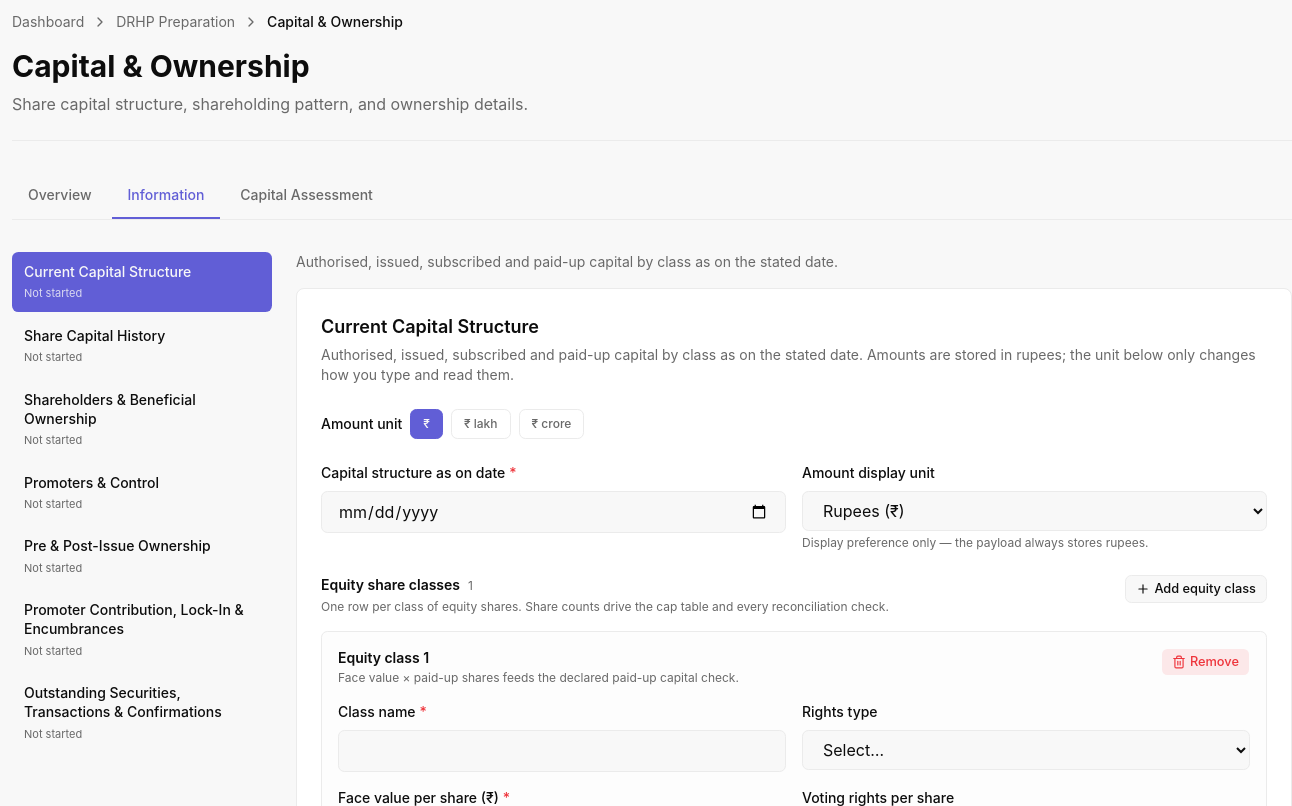
Scenario: Capital & Ownership workstream UI (C2 persistence) › loads workspace and renders three tabs and seven information sections
Expected: the navigation bar named "information sections" is shown, [12,252,272,752]
Expected: the tab "Information" is shown, [112,173,220,219]
Click the tab "Overview".
click(60, 196)  # box [12,173,108,219]
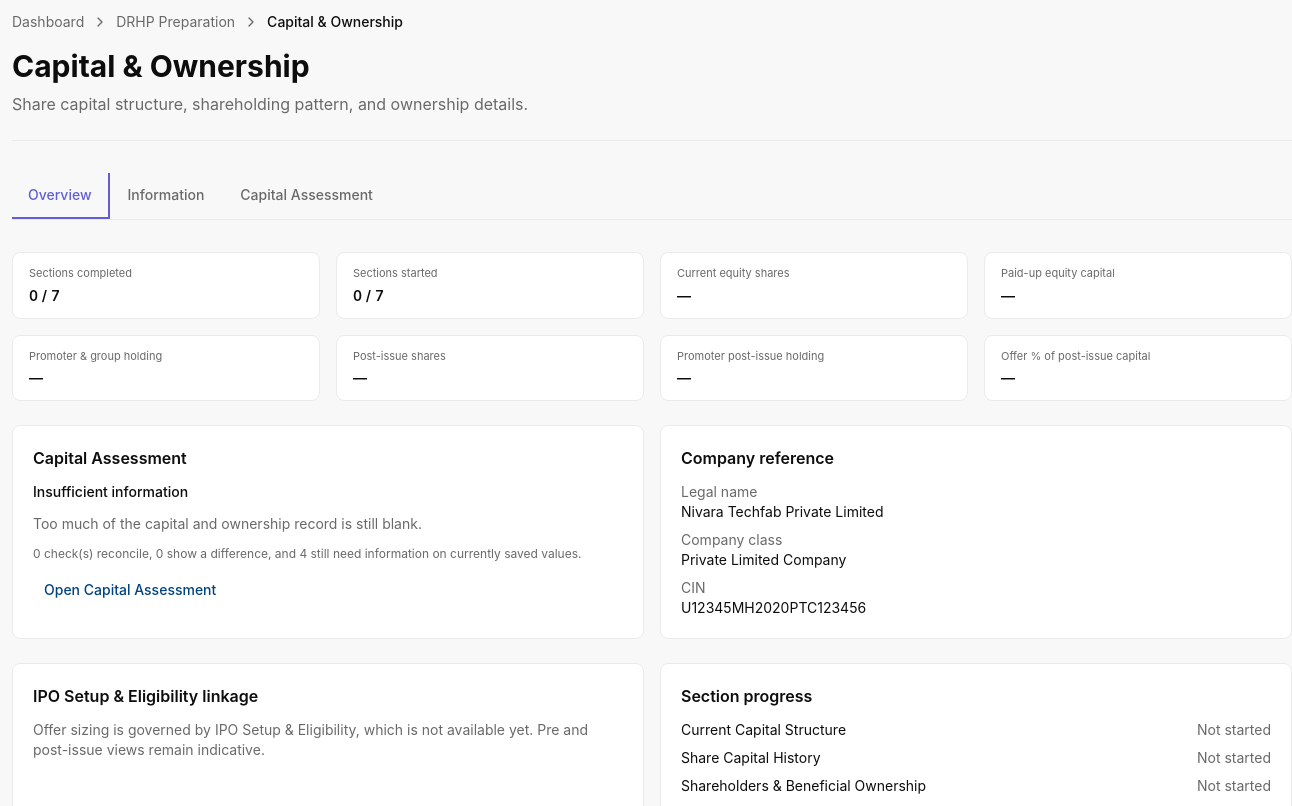
Expected: the text "Sections completed" is shown, [29,266,132,280]
Expected: the text "Insufficient information" is shown, [33,483,188,500]
Click the tab "Capital Assessment".
click(307, 196)  # box [224,173,389,219]
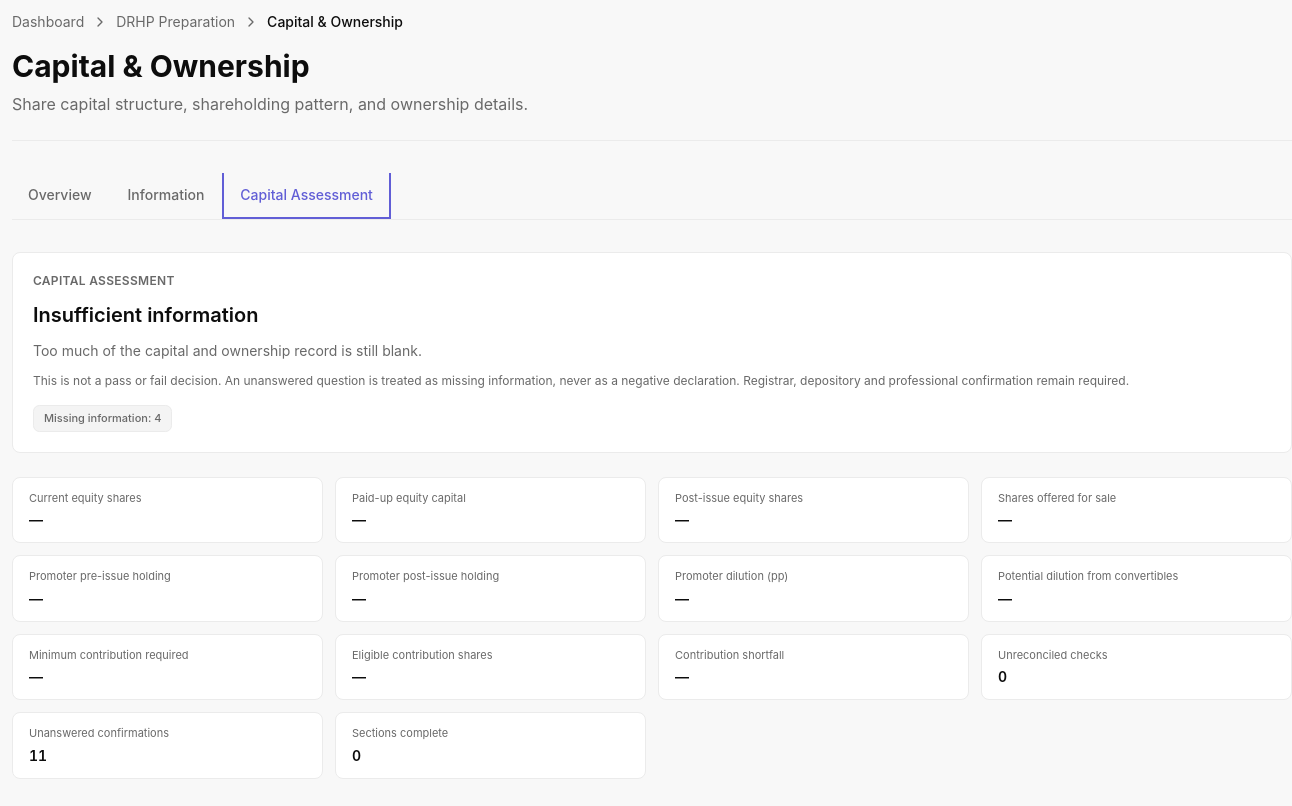
Expected: the text "not a pass or fail decision" is shown, [33,373,1129,388]
